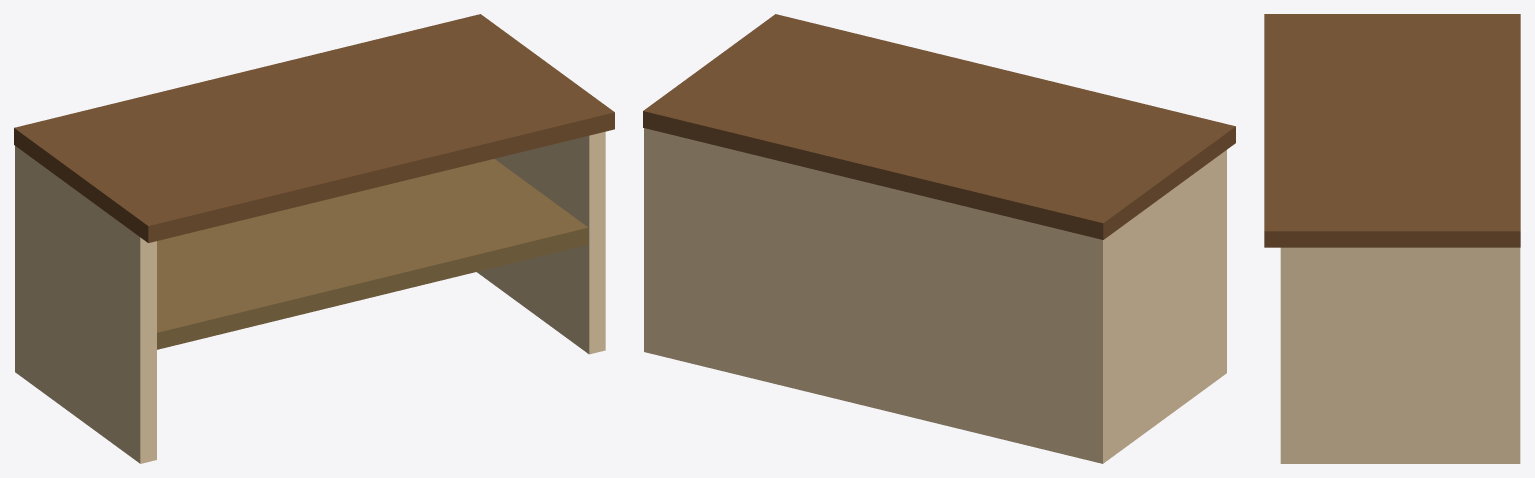
Rendered from TalbeWithShelves.fbx.
The picture shows the model from 3 angles, left to right: view 1: azimuth 30°, elevation 25°; view 2: azimuth 150°, elevation 25°; view 3: azimuth 270°, elevation 25°; orthographic projection. The views are drawn at different scales.
Visible parts, largest first — view 1: Cube.003, Cube.004; view 2: Cube.003; view 3: Cube.003.
Boxes of the visible parts, x1,y1,x2,y2 form: Cube.003: (14, 14, 614, 463); Cube.004: (157, 159, 588, 349); Cube.003: (643, 14, 1235, 463); Cube.003: (1264, 14, 1520, 463).
Size of the model in its own units: 401 by 201 by 200.
